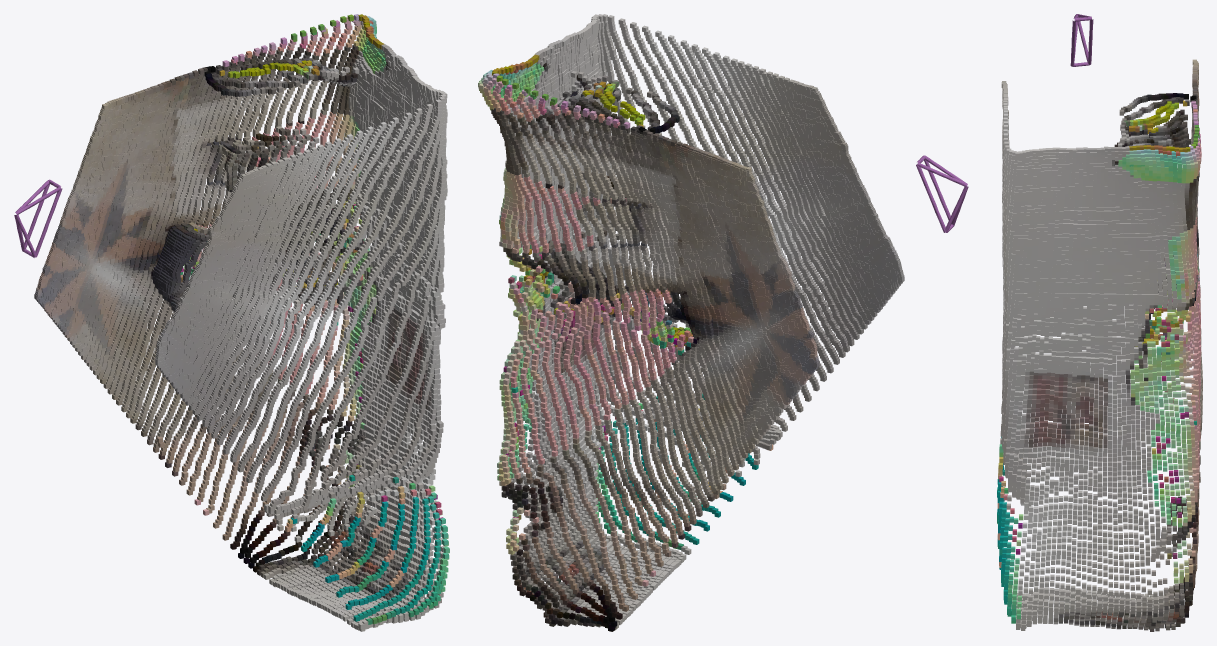
Rendered from pred_3-compressed.glb.
3 renders of one model, left to right at view 1: azimuth 30°, elevation 25°; view 2: azimuth 150°, elevation 25°; view 3: azimuth 270°, elevation 25°, orthographic. The views are drawn at different scales.
Bounding box in the file's own units: 5.22 × 6.37 × 2.36.
